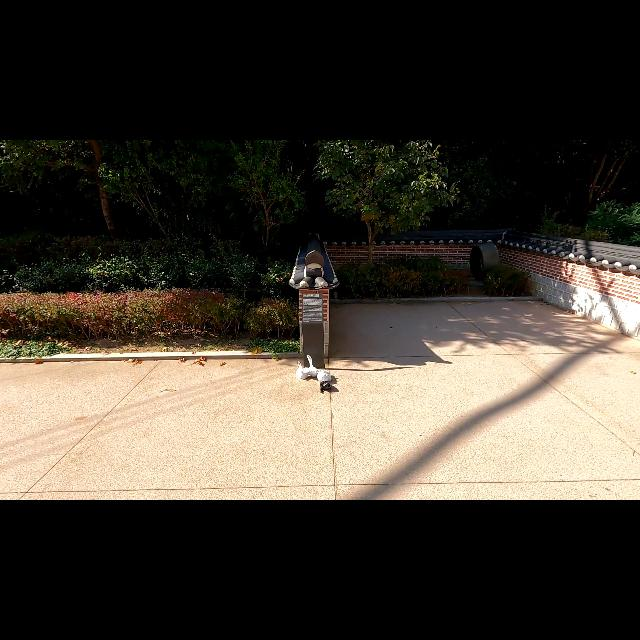trash: (302, 354, 320, 378), (296, 362, 310, 381), (316, 369, 332, 383), (319, 381, 333, 394)
